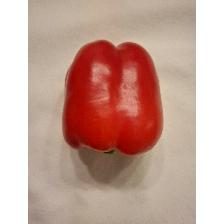Paprika: (60, 38, 166, 160)
